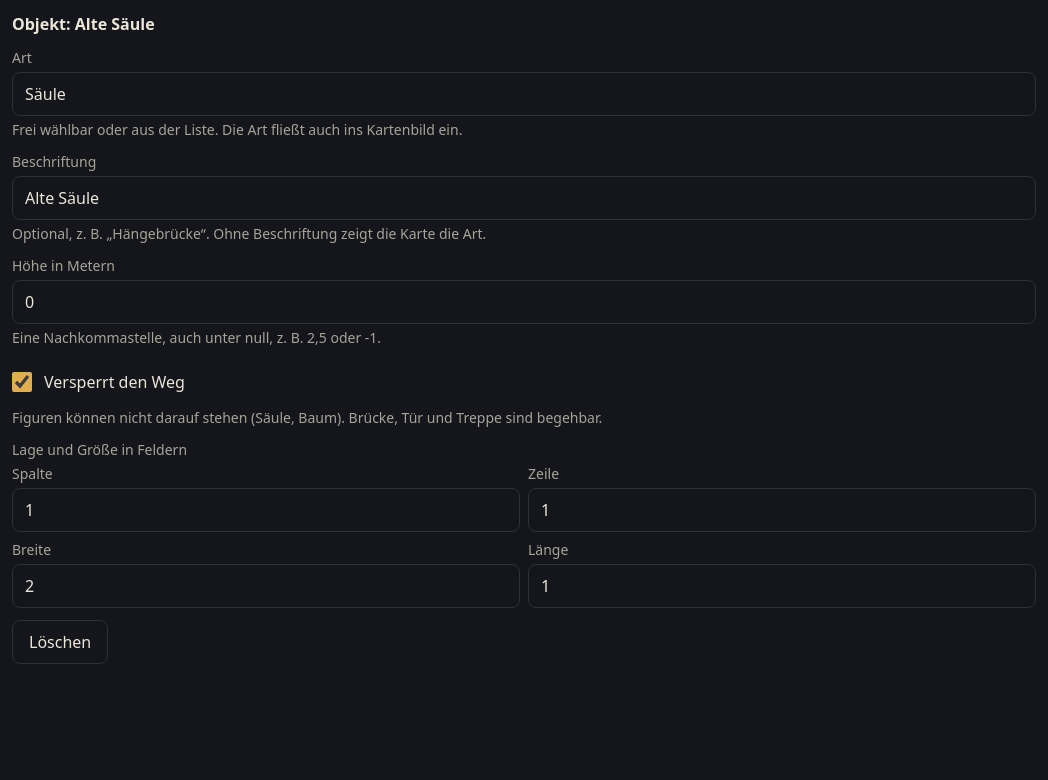
Test: property panel › marks a blank kind
Clear the field labelled "Art" at point(524, 94), box [12,72,1036,116]
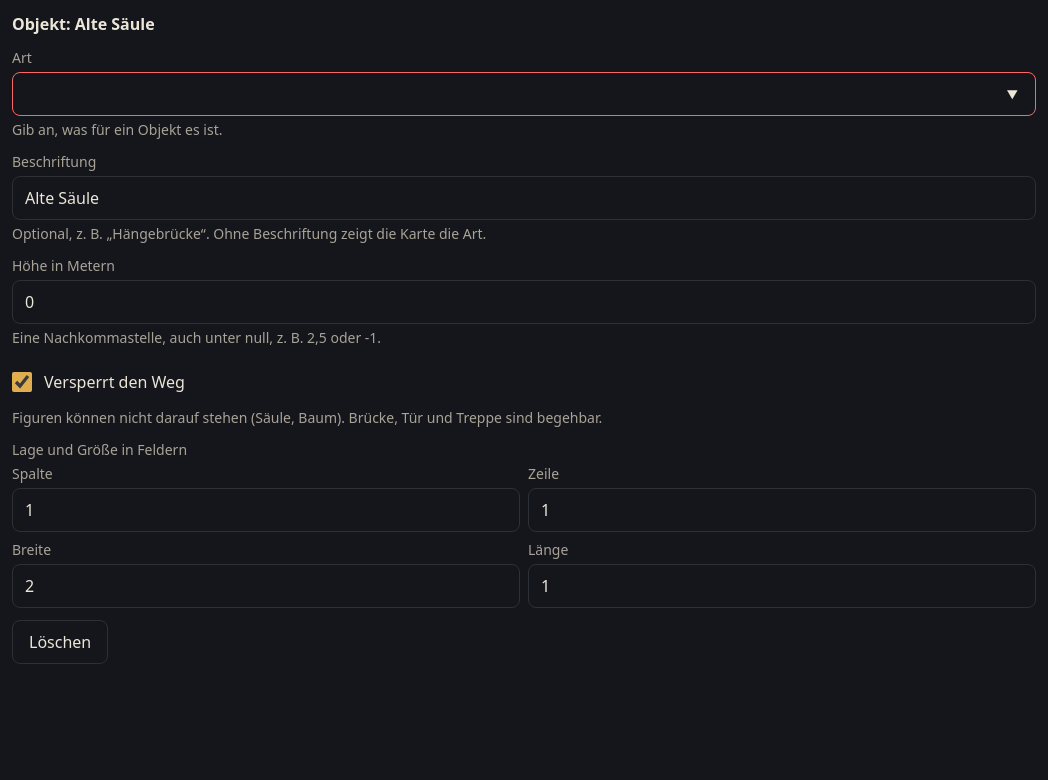
Now the text "Gib an, was für ein Objekt es ist." is shown, box [12,120,222,139]
